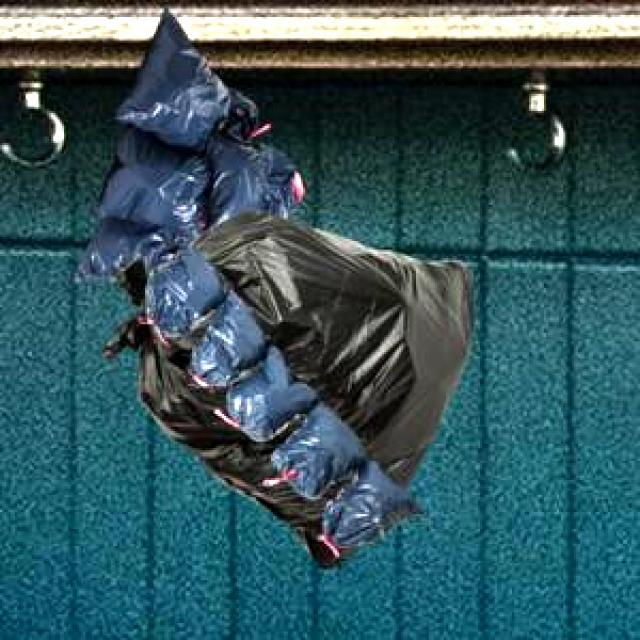Garbage_Bag: (102, 208, 470, 566), (142, 240, 426, 543), (71, 5, 300, 278)
